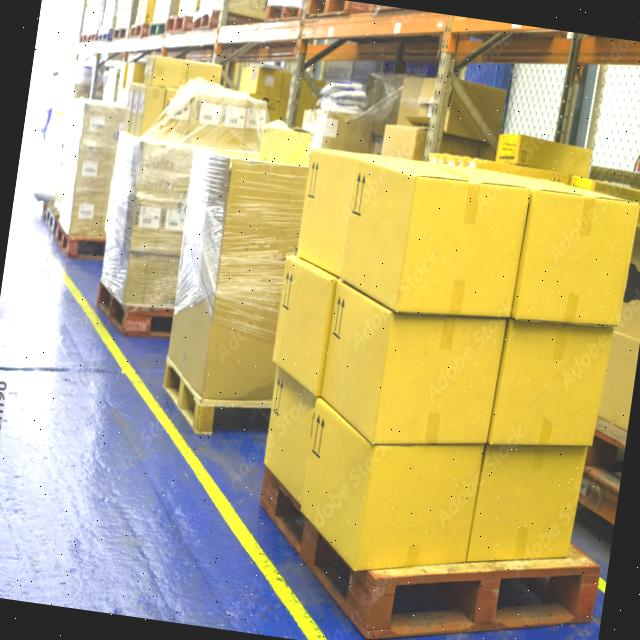pallet: (244, 135, 640, 640), (150, 142, 318, 448), (88, 119, 213, 347), (46, 80, 141, 284)
